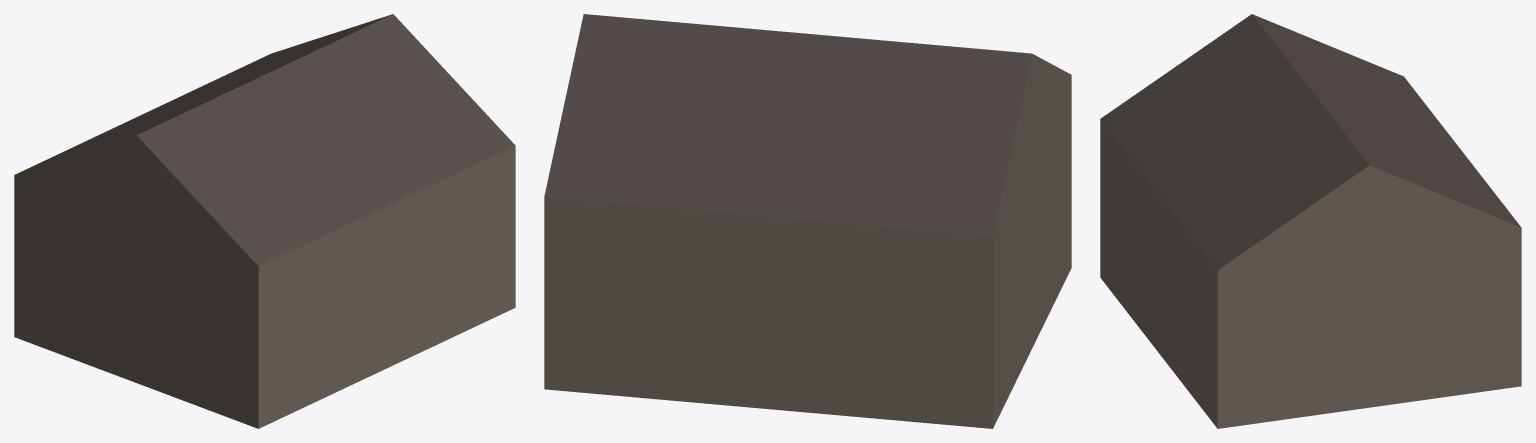
The picture shows the model from 3 angles, left to right: view 1: azimuth 30°, elevation 25°; view 2: azimuth 150°, elevation 25°; view 3: azimuth 270°, elevation 25°; orthographic projection. The views are drawn at different scales.
Visible parts, largest first — view 1: HP-w1503929315; view 2: HP-w1503929315; view 3: HP-w1503929315.
Part boxes in pixels (left/top/right/bottom): HP-w1503929315: left=14, top=14, right=515, bottom=428; HP-w1503929315: left=544, top=14, right=1071, bottom=428; HP-w1503929315: left=1100, top=14, right=1521, bottom=428.
Size of the model in its own units: 15.73 by 9.17 by 14.45.
